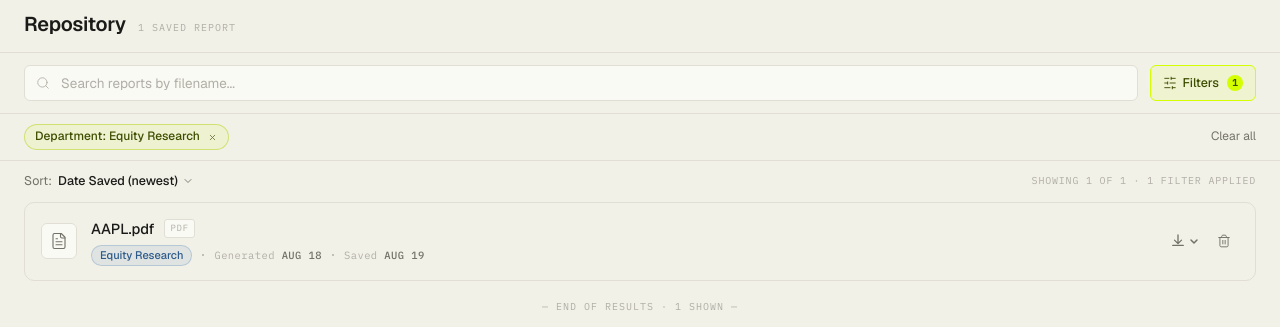
Scenario: Repository page › filter chip dismiss removes that filter
This screenshot has width=1280, height=327.
Click the button named "Remove filter Department: Equity Research" at [213, 137], box [206, 130, 220, 144]
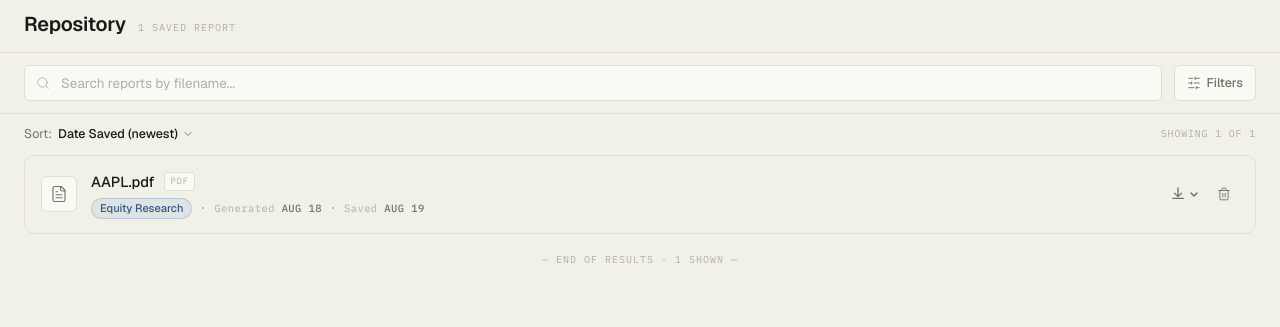
Result: the text "Department: Equity Research" is gone
